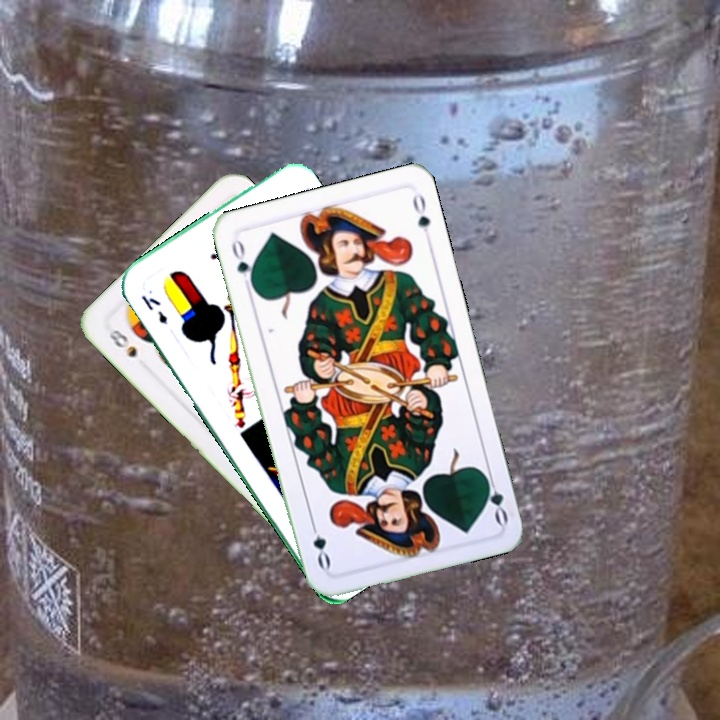EK: (137, 291, 171, 327)
GO: (479, 468, 511, 527), (227, 234, 257, 293)
S8: (101, 325, 140, 360)
